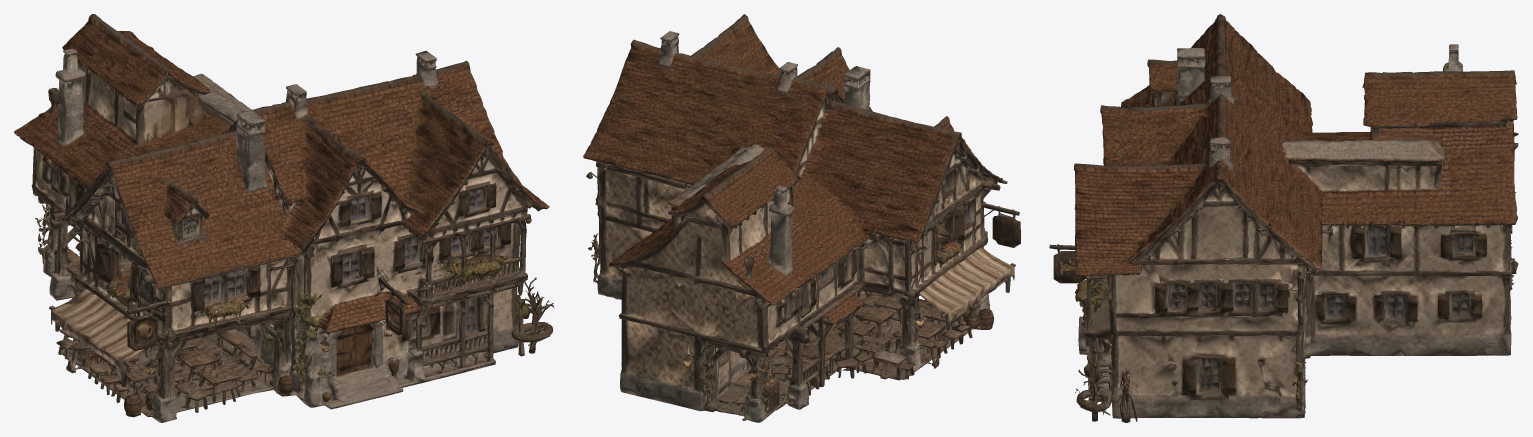
File: auberge.glb
3 renders of one model, left to right at view 1: azimuth 30°, elevation 25°; view 2: azimuth 150°, elevation 25°; view 3: azimuth 270°, elevation 25°, orthographic. The views are drawn at different scales.
Size of the model in its own units: 1.7 by 1.04 by 1.7.
Materials: 1 (1 with a texture image).
